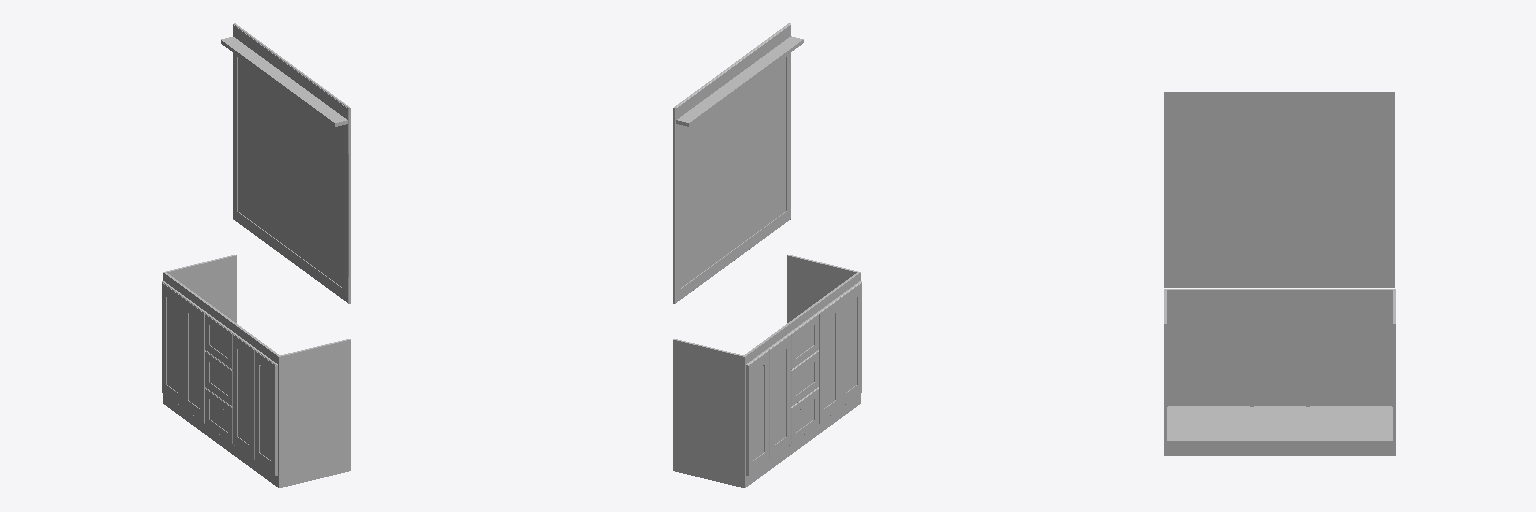
The model's file is housesp_042.obj.
The picture shows the model from 3 angles: view 1: azimuth 30°, elevation 25°; view 2: azimuth 150°, elevation 25°; view 3: azimuth 270°, elevation 25°; orthographic projection.
Bounding box in the file's own units: 48.58 × 225 × 131.